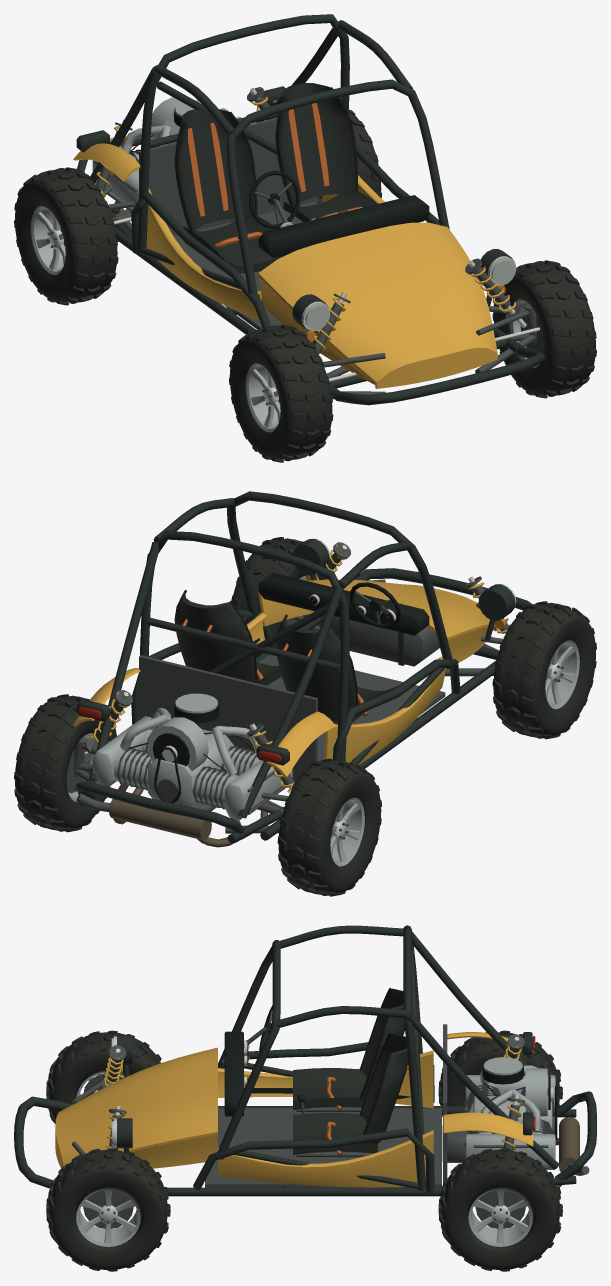
File: buggy.glb
The picture shows the model from 3 angles, top to bottom: view 1: azimuth 30°, elevation 25°; view 2: azimuth 150°, elevation 25°; view 3: azimuth 270°, elevation 25°; orthographic projection. The views are drawn at different scales.
Visible parts, largest first — view 1: panel_hoodRavine, Tire_Ravine_RL, Tire_Ravine_FL, Tire_Ravine_FR, Interior Ravine bucket back 1, Interior Ravine bucket back -1, panel_CageFrontRavine, Interior Ravine dashboard, Structure Ravine firewall, panel_CageMainRavine, Tire_Ravine_Tread_FL, Tire_Ravine_Tread_RL (+25 smaller); view 2: Structure Ravine firewall, Tire_Ravine_FL, Tire_Ravine_RL, Tire_Ravine_RR, Interior Ravine bucket back 1, panel_CageFrontRavine, panel_CageMainRavine, Interior Ravine bucket back -1, Interior Ravine dashboard, panel_hoodRavine, Tire_Ravine_Tread_FL, Tire_Ravine_Tread_RL (+39 smaller); view 3: panel_hoodRavine, Tire_Ravine_RR, Tire_Ravine_FR, Structure Ravine floor, panel_SidePodRavineR, panel_CageFrontRavine, Tire_Ravine_FL, Structure Ravine lower rail R, Interior Ravine bucket cushion -1, Interior Ravine bucket back 1, panel_CageSideRavineR, panel_CageMainRavine (+34 smaller).
Part boxes in pixels (bbox=[...]): panel_hoodRavine: bbox=[258, 222, 497, 384]; Tire_Ravine_RL: bbox=[15, 170, 117, 302]; Tire_Ravine_FL: bbox=[229, 327, 332, 459]; Tire_Ravine_FR: bbox=[493, 263, 595, 395]; Interior Ravine bucket back 1: bbox=[275, 83, 355, 206]; Interior Ravine bucket back -1: bbox=[174, 108, 254, 232]; panel_CageFrontRavine: bbox=[226, 79, 449, 300]; Interior Ravine dashboard: bbox=[258, 195, 429, 257]; Structure Ravine firewall: bbox=[139, 117, 317, 235]; panel_CageMainRavine: bbox=[137, 14, 349, 255]; Tire_Ravine_Tread_FL: bbox=[229, 324, 333, 462]; Tire_Ravine_Tread_RL: bbox=[14, 167, 118, 305]; Structure Ravine firewall: bbox=[139, 655, 317, 781]; Tire_Ravine_FL: bbox=[493, 604, 595, 736]; Tire_Ravine_RL: bbox=[278, 761, 381, 893]; Tire_Ravine_RR: bbox=[15, 697, 116, 829]; Interior Ravine bucket back 1: bbox=[174, 591, 255, 682]; panel_CageFrontRavine: bbox=[227, 491, 452, 668]; panel_CageMainRavine: bbox=[140, 531, 349, 761]; Interior Ravine bucket back -1: bbox=[275, 616, 356, 720]; Interior Ravine dashboard: bbox=[258, 573, 429, 635]; panel_hoodRavine: bbox=[258, 579, 495, 639]; Tire_Ravine_Tread_FL: bbox=[492, 601, 596, 739]; Tire_Ravine_Tread_RL: bbox=[277, 758, 381, 896]; panel_hoodRavine: bbox=[55, 1047, 217, 1165]; Tire_Ravine_RR: bbox=[441, 1149, 559, 1270]; Tire_Ravine_FR: bbox=[49, 1149, 167, 1270]; Structure Ravine floor: bbox=[205, 1108, 441, 1187]; panel_SidePodRavineR: bbox=[218, 1136, 433, 1187]; panel_CageFrontRavine: bbox=[217, 940, 280, 1159]; Tire_Ravine_FL: bbox=[49, 1032, 160, 1118]; Structure Ravine lower rail R: bbox=[167, 1187, 441, 1196]; Interior Ravine bucket cushion -1: bbox=[293, 1068, 366, 1109]; Interior Ravine bucket back 1: bbox=[361, 1033, 408, 1144]; panel_CageSideRavineR: bbox=[193, 1128, 434, 1192]; panel_CageMainRavine: bbox=[403, 925, 426, 1191].
Size of the model in its own units: 1.99 by 1.7 by 3.57.
